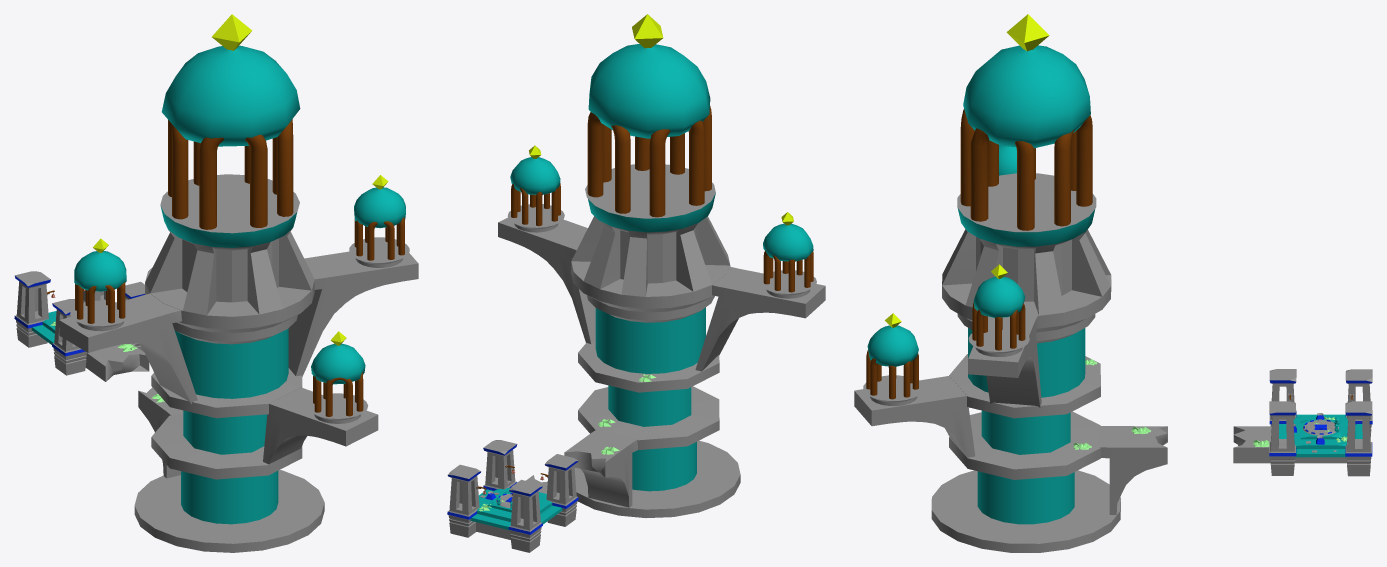
The model's file is level01_floor01.FBX.
The picture shows the model from 3 angles, left to right: view 1: azimuth 30°, elevation 25°; view 2: azimuth 150°, elevation 25°; view 3: azimuth 270°, elevation 25°; orthographic projection. The views are drawn at different scales.
Parts seen in each view (by area): view 1: floor01_tower, floor01_pilars, floor01_base; view 2: floor01_tower, floor01_pilars, floor01_base; view 3: floor01_tower, floor01_pilars, floor01_base.
Boxes of the visible parts, x1,y1,x2,y2 form: floor01_tower: (59,14,418,552); floor01_pilars: (14,271,144,375); floor01_base: (31,311,149,381); floor01_tower: (498,14,825,517); floor01_pilars: (447,440,578,552); floor01_base: (470,475,562,539); floor01_tower: (854,14,1167,552); floor01_pilars: (1269,369,1372,476); floor01_base: (1233,413,1362,463).
Size of the model in its own units: 1501 by 2131 by 2000.
